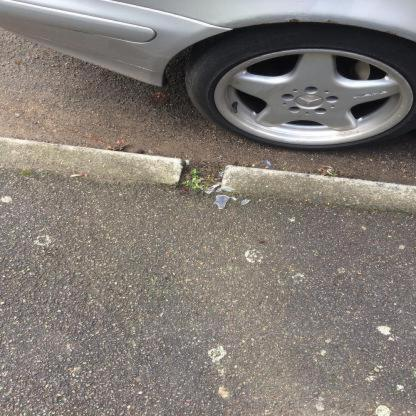Other plastic: (214, 195, 231, 209)
Unlabeled litter: (206, 183, 220, 191), (222, 186, 235, 192), (242, 199, 249, 205), (204, 191, 212, 194), (231, 197, 237, 201), (216, 188, 222, 192)
